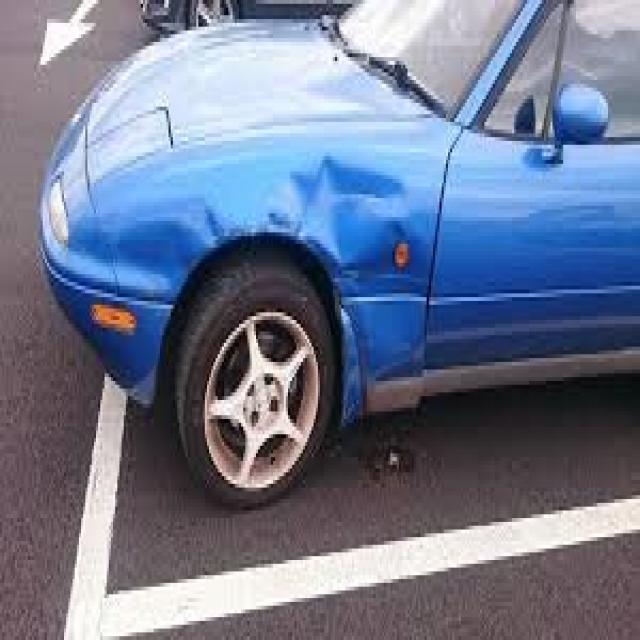moderate: (174, 130, 482, 382)
